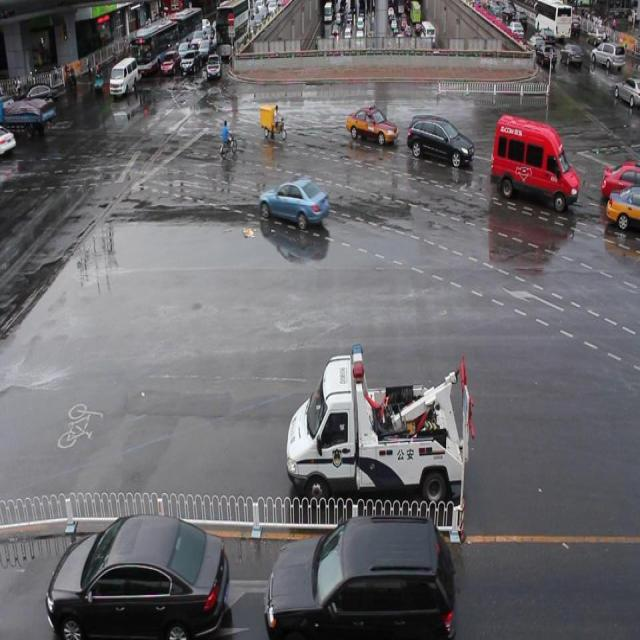car: (287, 348, 479, 491), (249, 519, 464, 640), (44, 514, 232, 630), (477, 94, 582, 266), (258, 168, 342, 253), (338, 82, 391, 168), (404, 96, 464, 169), (112, 48, 148, 124), (200, 47, 228, 88)
